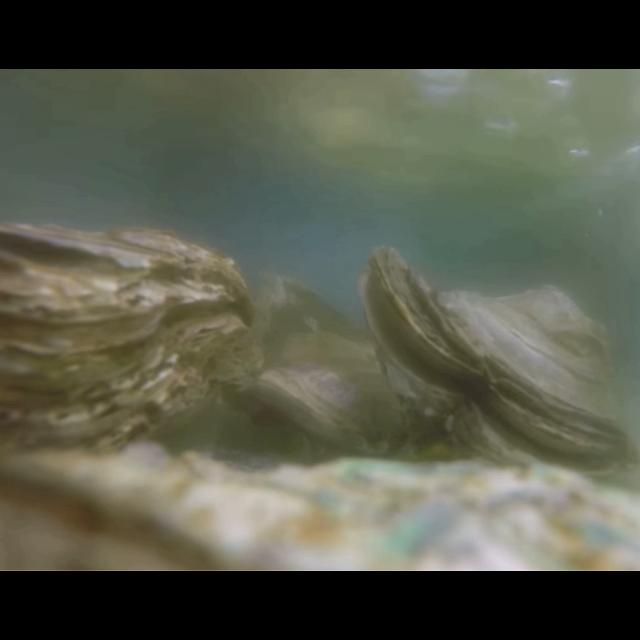Oyster-Closed: (0, 443, 640, 571), (0, 220, 254, 480), (259, 333, 417, 465)
Oyster-Open: (358, 245, 640, 492)
